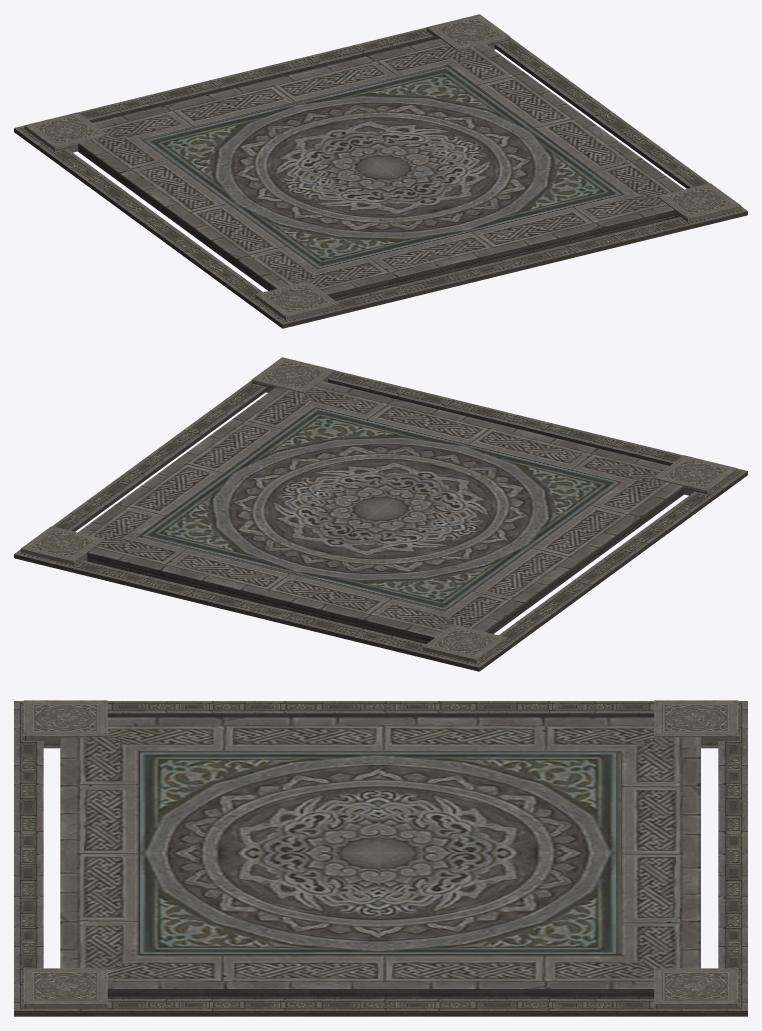
The model's file is s7_unioncity_dizhuan_03_new01.FBX.
3 views of the same model, one above another, from view 1: azimuth 30°, elevation 25°; view 2: azimuth 150°, elevation 25°; view 3: azimuth 270°, elevation 25° (orthographic). The views are drawn at different scales.
Visible parts, largest first — view 1: s7_unioncity_dizhuan_03_01, s7_unioncity_dizhuan_03_02; view 2: s7_unioncity_dizhuan_03_01, s7_unioncity_dizhuan_03_02; view 3: s7_unioncity_dizhuan_03_01, s7_unioncity_dizhuan_03_02.
Boxes of the visible parts, left/top/right/bottom form: s7_unioncity_dizhuan_03_01: left=78, top=38, right=683, bottom=294; s7_unioncity_dizhuan_03_02: left=14, top=14, right=747, bottom=328; s7_unioncity_dizhuan_03_01: left=78, top=381, right=683, bottom=637; s7_unioncity_dizhuan_03_02: left=14, top=357, right=747, bottom=671; s7_unioncity_dizhuan_03_01: left=60, top=717, right=700, bottom=988; s7_unioncity_dizhuan_03_02: left=14, top=700, right=747, bottom=1016.
Size of the model in its own units: 30.7 by 0.6225 by 30.7.
Materials: 2 (2 with a texture image).
